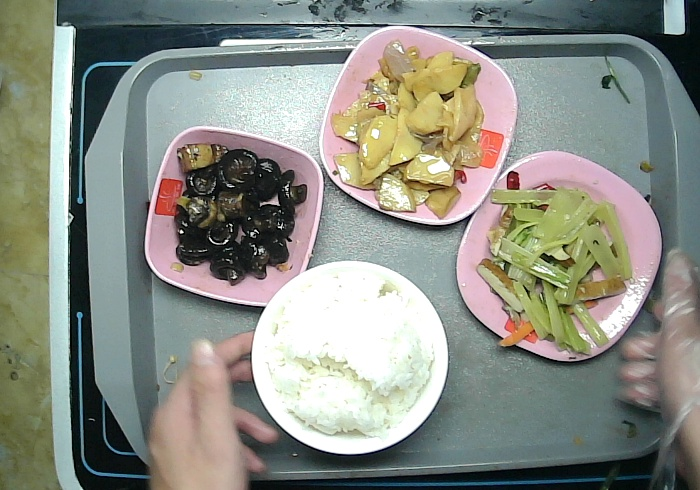SHKJ-Fan_Wan: (251, 258, 450, 454)
SHKJ-Fen_Se_Cai_Die: (319, 26, 519, 230)
SHKJ-Fen_Se_Si_Fang_Cai_Die: (456, 147, 661, 367)
SHKJ-Fen_Se_Xiao_Fang_Die: (145, 125, 325, 307)
